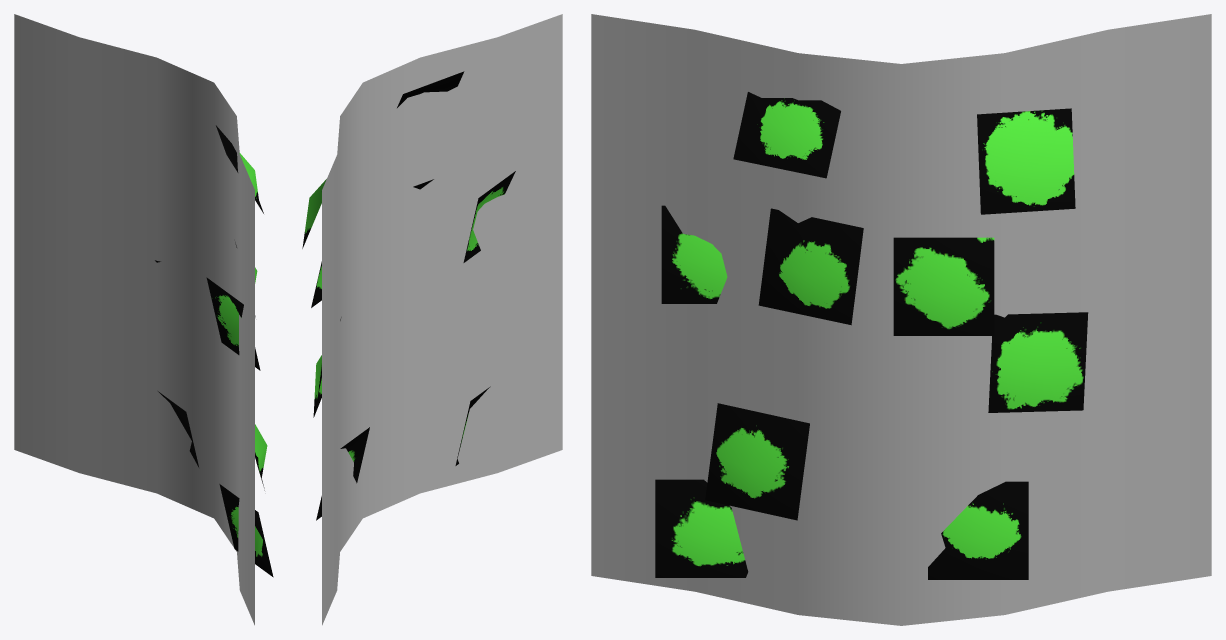
File: vine03.fbx
The picture shows the model from 3 angles, left to right: view 1: azimuth 30°, elevation 25°; view 2: azimuth 150°, elevation 25°; view 3: azimuth 270°, elevation 25°; orthographic projection. The views are drawn at different scales.
Visible parts, largest first — view 1: vine03; view 2: vine03; view 3: vine03.
Boxes of the visible parts, bbox=[...] form: vine03: bbox=[14, 14, 273, 625]; vine03: bbox=[302, 14, 562, 625]; vine03: bbox=[591, 14, 1211, 625].
Bounding box in the file's own units: 1.05 × 4.33 × 4.33.
